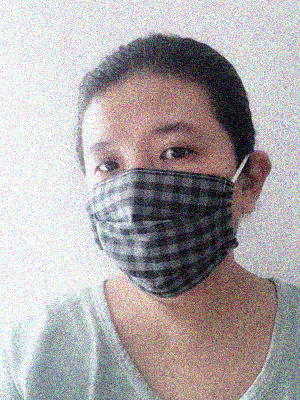with_mask: (81, 121, 240, 301)
